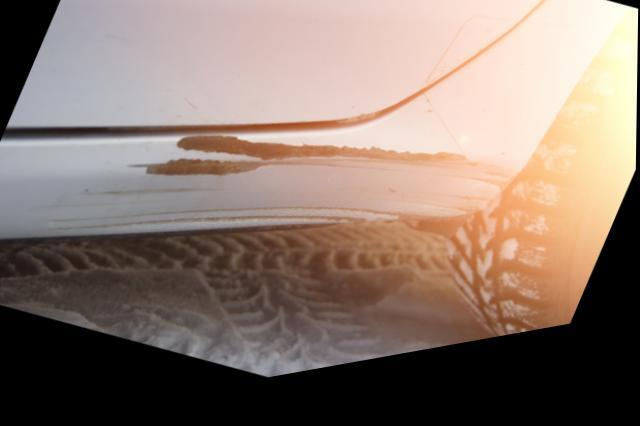rub: (32, 139, 513, 239)
